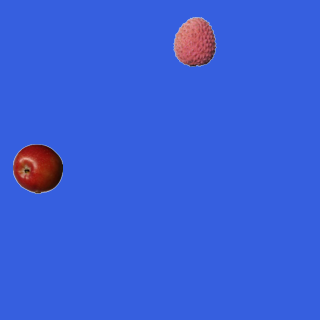Apple Braeburn: (12, 143, 62, 193)
Lychee: (169, 16, 219, 66)
